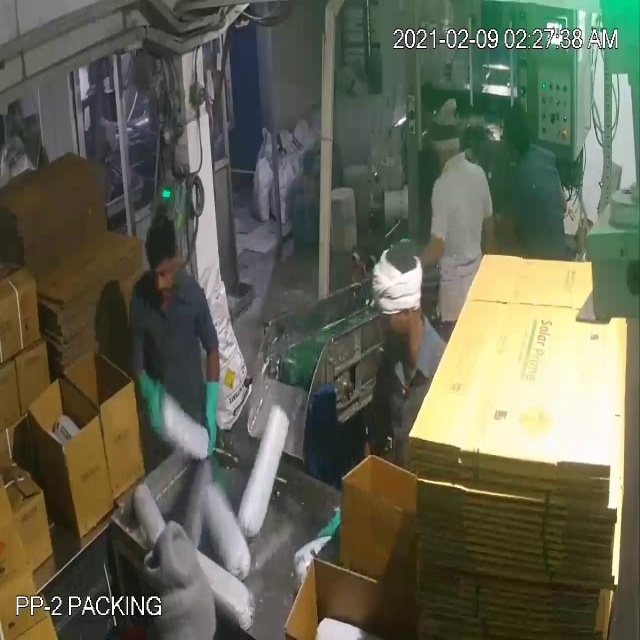Guantes: (129, 360, 174, 443), (196, 375, 228, 460)
Sin_guantes: (410, 226, 447, 276)
